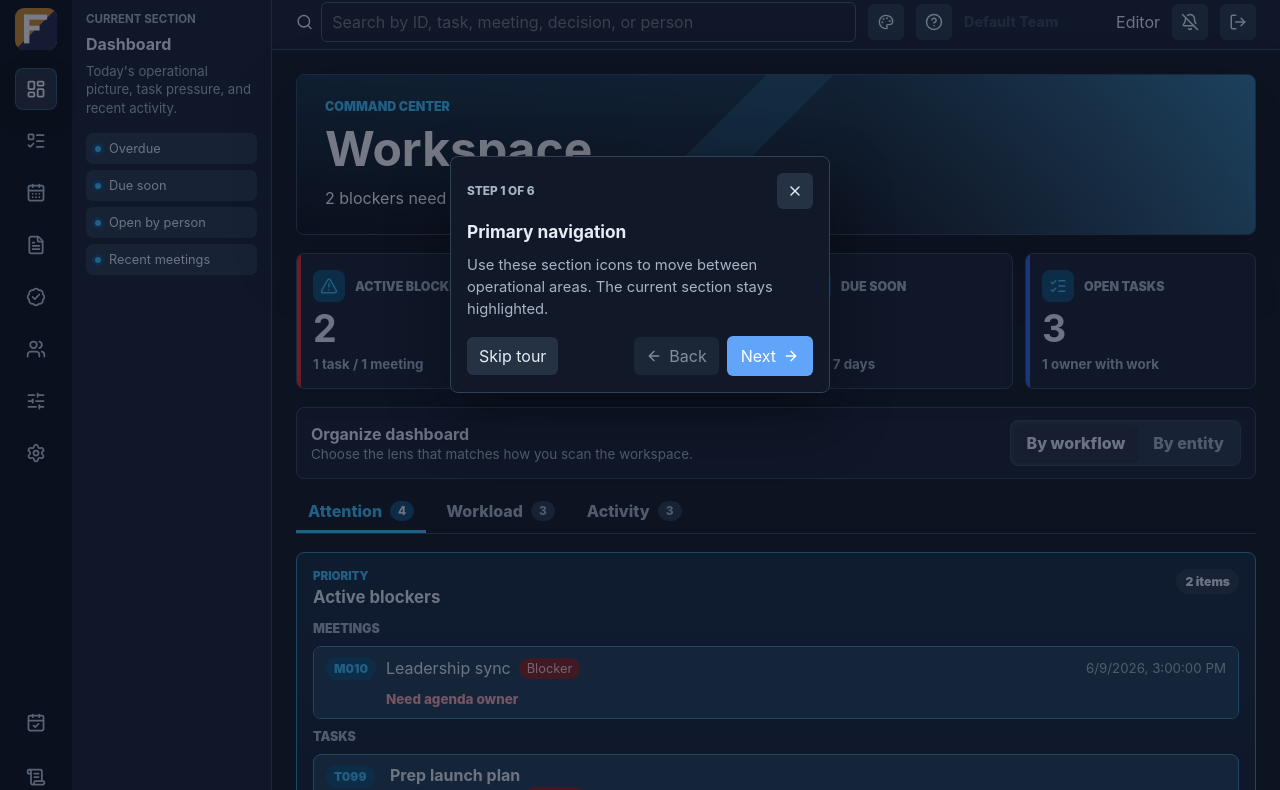
Test: dashboard and workspace flows › opens inline person IDs from record notes
Step 1. Click the button named "Tasks" → (36, 141), box [15, 120, 57, 162]
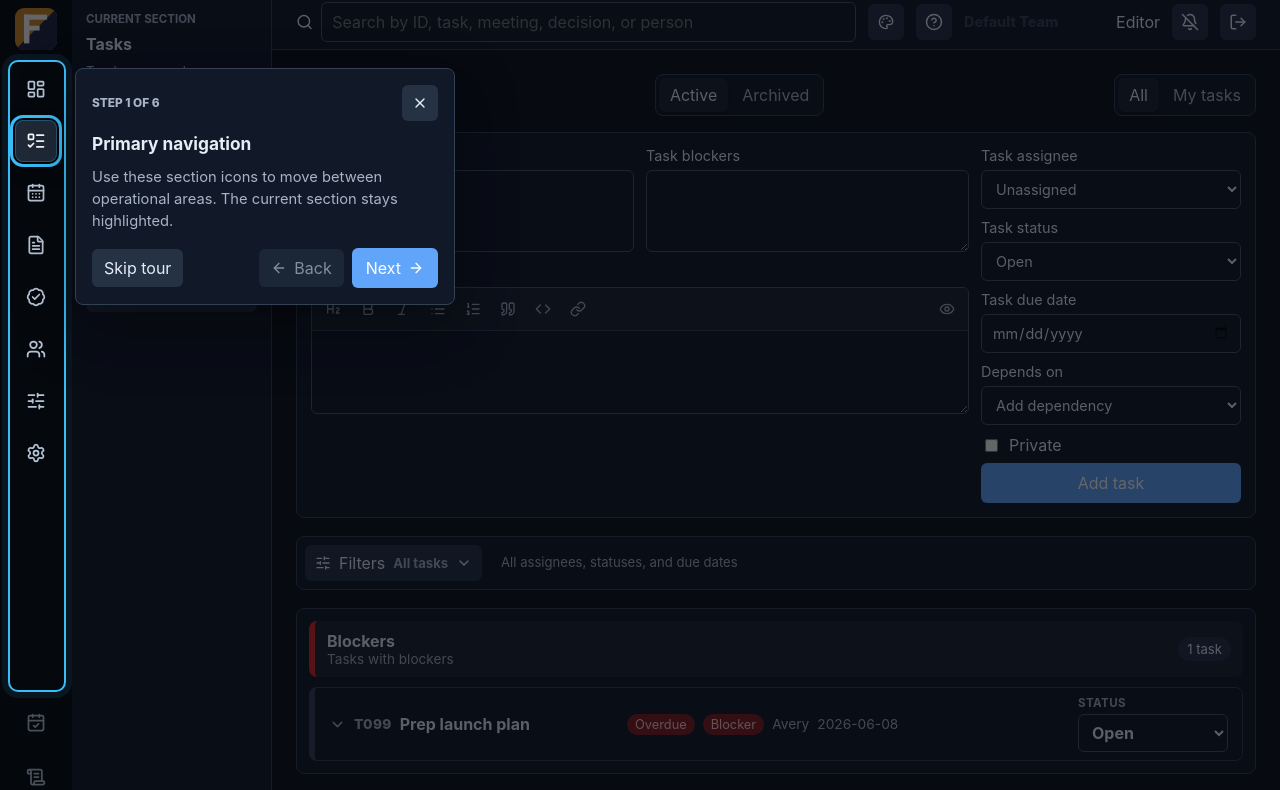
Step 2. Click the button named "Expand task T099" → (696, 724), box [315, 688, 1078, 760]
(page scrolled)
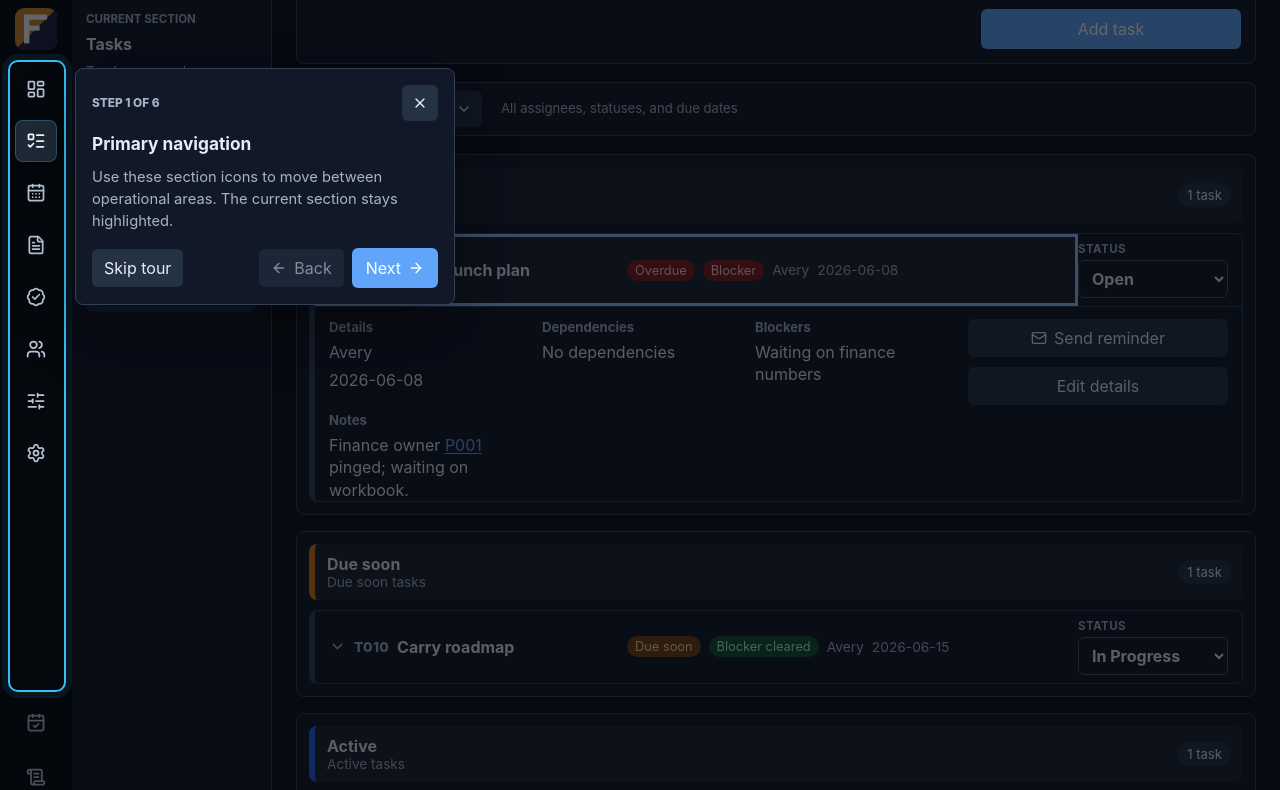
Step 3. Click the button named "Open person P001" → (463, 445), box [445, 434, 482, 456]
(page scrolled)
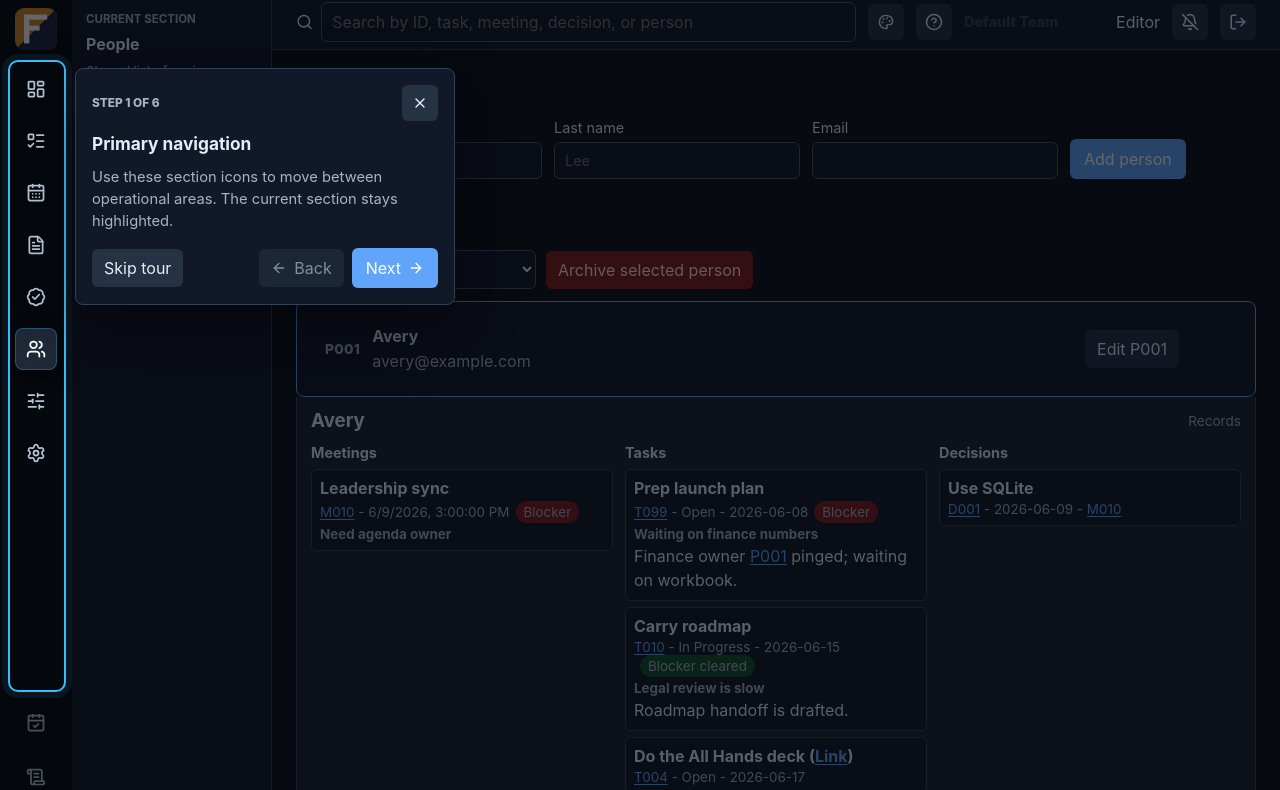
Check: the element named "Related records for P001" shows "Prep launch plan", box [634, 478, 764, 498]
